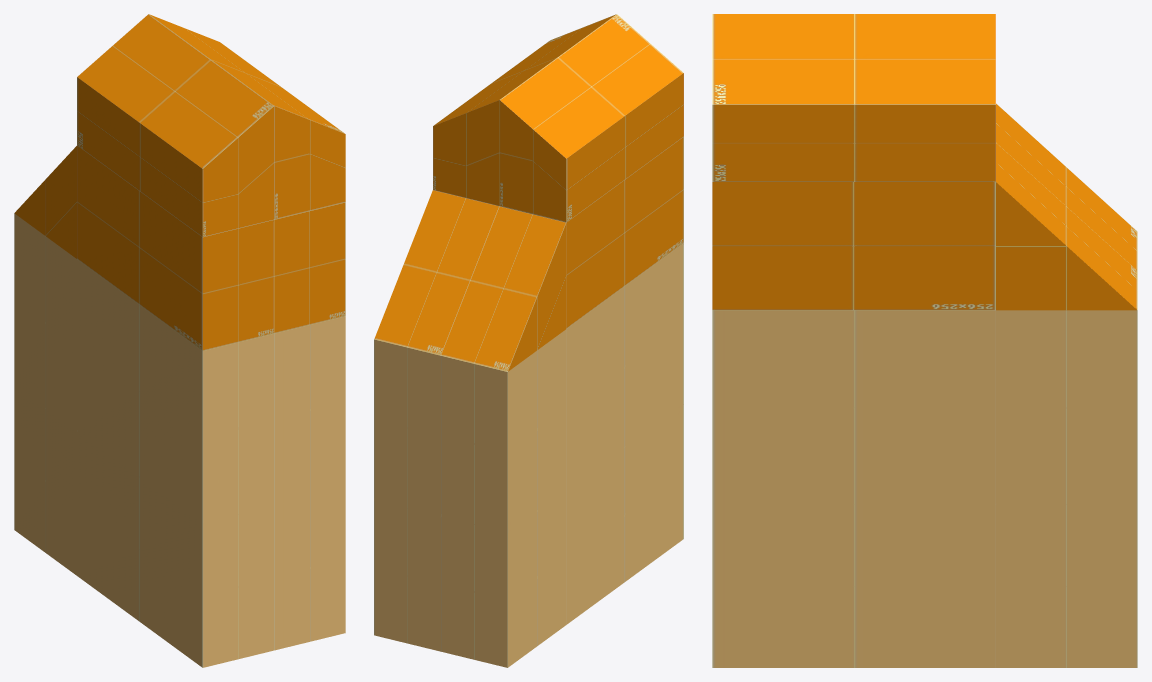
File: small.glb
The picture shows the model from 3 angles, left to right: view 1: azimuth 30°, elevation 25°; view 2: azimuth 150°, elevation 25°; view 3: azimuth 270°, elevation 25°; orthographic projection. The views are drawn at different scales.
Parts seen in each view (by area): view 1: Cube; view 2: Cube; view 3: Cube.
Boxes of the visible parts, left/top/right/bottom form: Cube: left=14, top=14, right=345, bottom=667; Cube: left=374, top=14, right=683, bottom=667; Cube: left=712, top=14, right=1137, bottom=667.
Size of what is drawn, in the model's own units: 6.57 by 23.9 by 15.
1 material, 1 textured.
